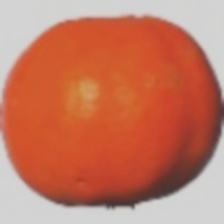tangerine: (8, 8, 189, 196)
